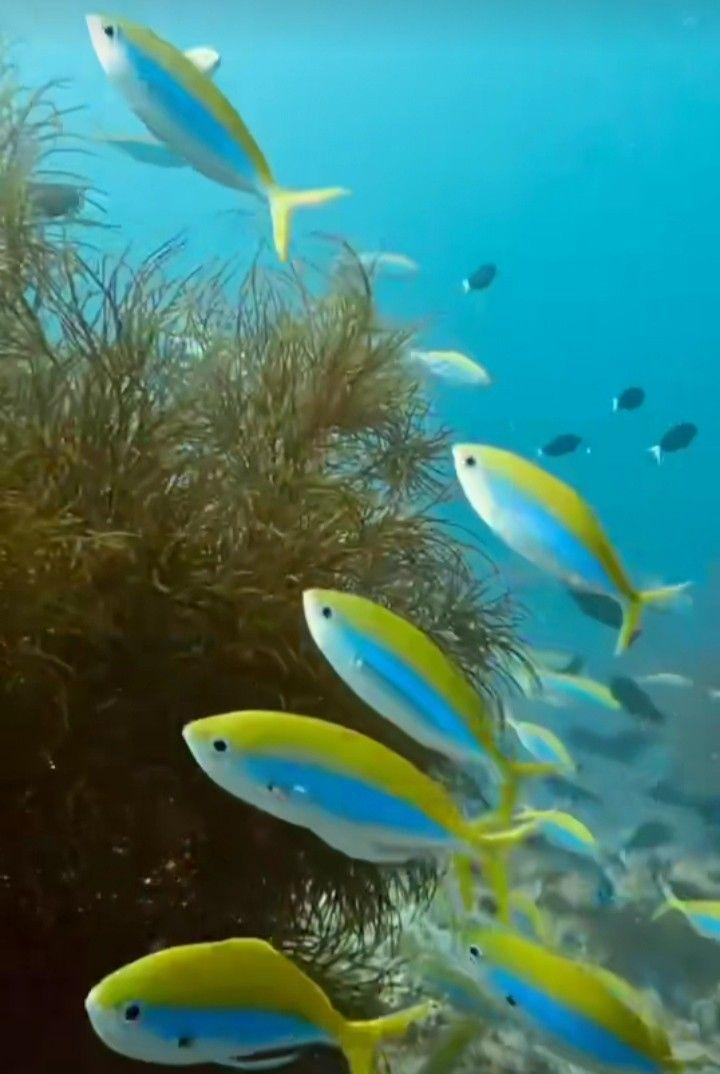fish: (182, 719, 535, 925), (87, 15, 349, 258), (305, 589, 551, 812), (450, 442, 686, 655), (88, 936, 421, 1074), (460, 921, 678, 1074), (531, 810, 614, 906), (658, 873, 720, 940), (518, 722, 580, 783), (404, 350, 492, 390), (646, 423, 700, 463), (537, 431, 593, 456), (463, 264, 497, 293), (612, 387, 646, 411)
